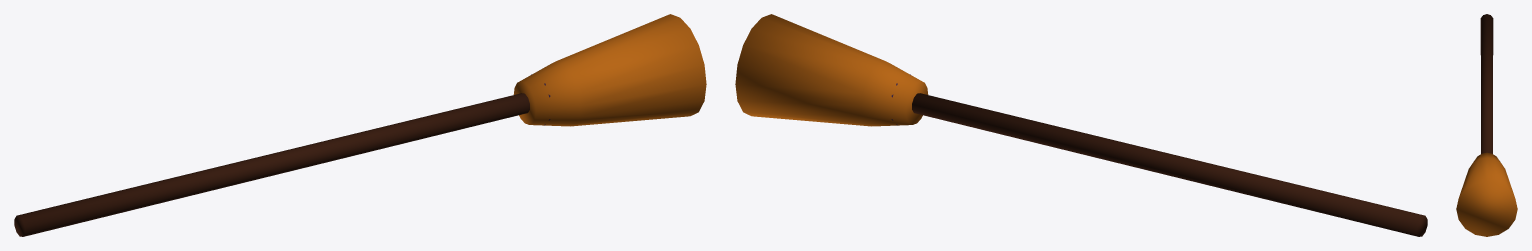
Rendered from broom.obj.
3 views of the same model, side by side, from view 1: azimuth 30°, elevation 25°; view 2: azimuth 150°, elevation 25°; view 3: azimuth 270°, elevation 25° (orthographic). The views are drawn at different scales.
Visible parts, largest first — view 1: LH_broom; view 2: LH_broom; view 3: LH_broom.
Part boxes in pixels (x1,y1,x2,y2): LH_broom: (14, 14, 706, 236); LH_broom: (735, 14, 1427, 236); LH_broom: (1456, 14, 1517, 236).
Bounding box in the file's own units: 1.02 × 0.14 × 0.14.
